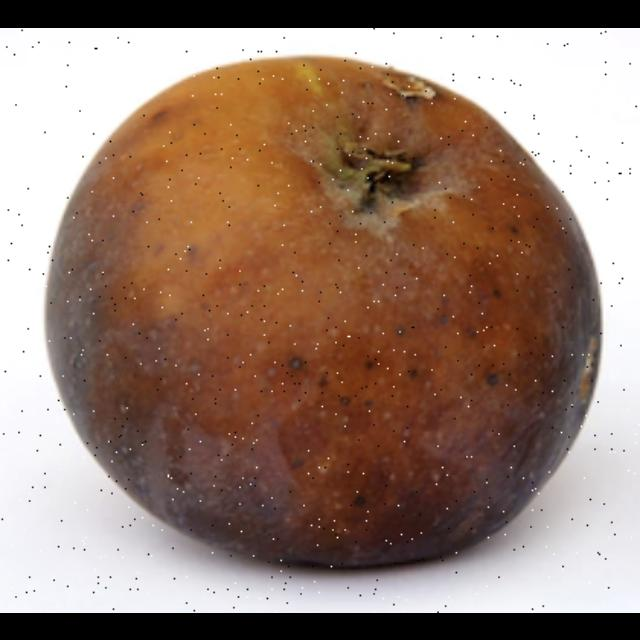Apel Tidak Segar: (45, 52, 605, 572)
